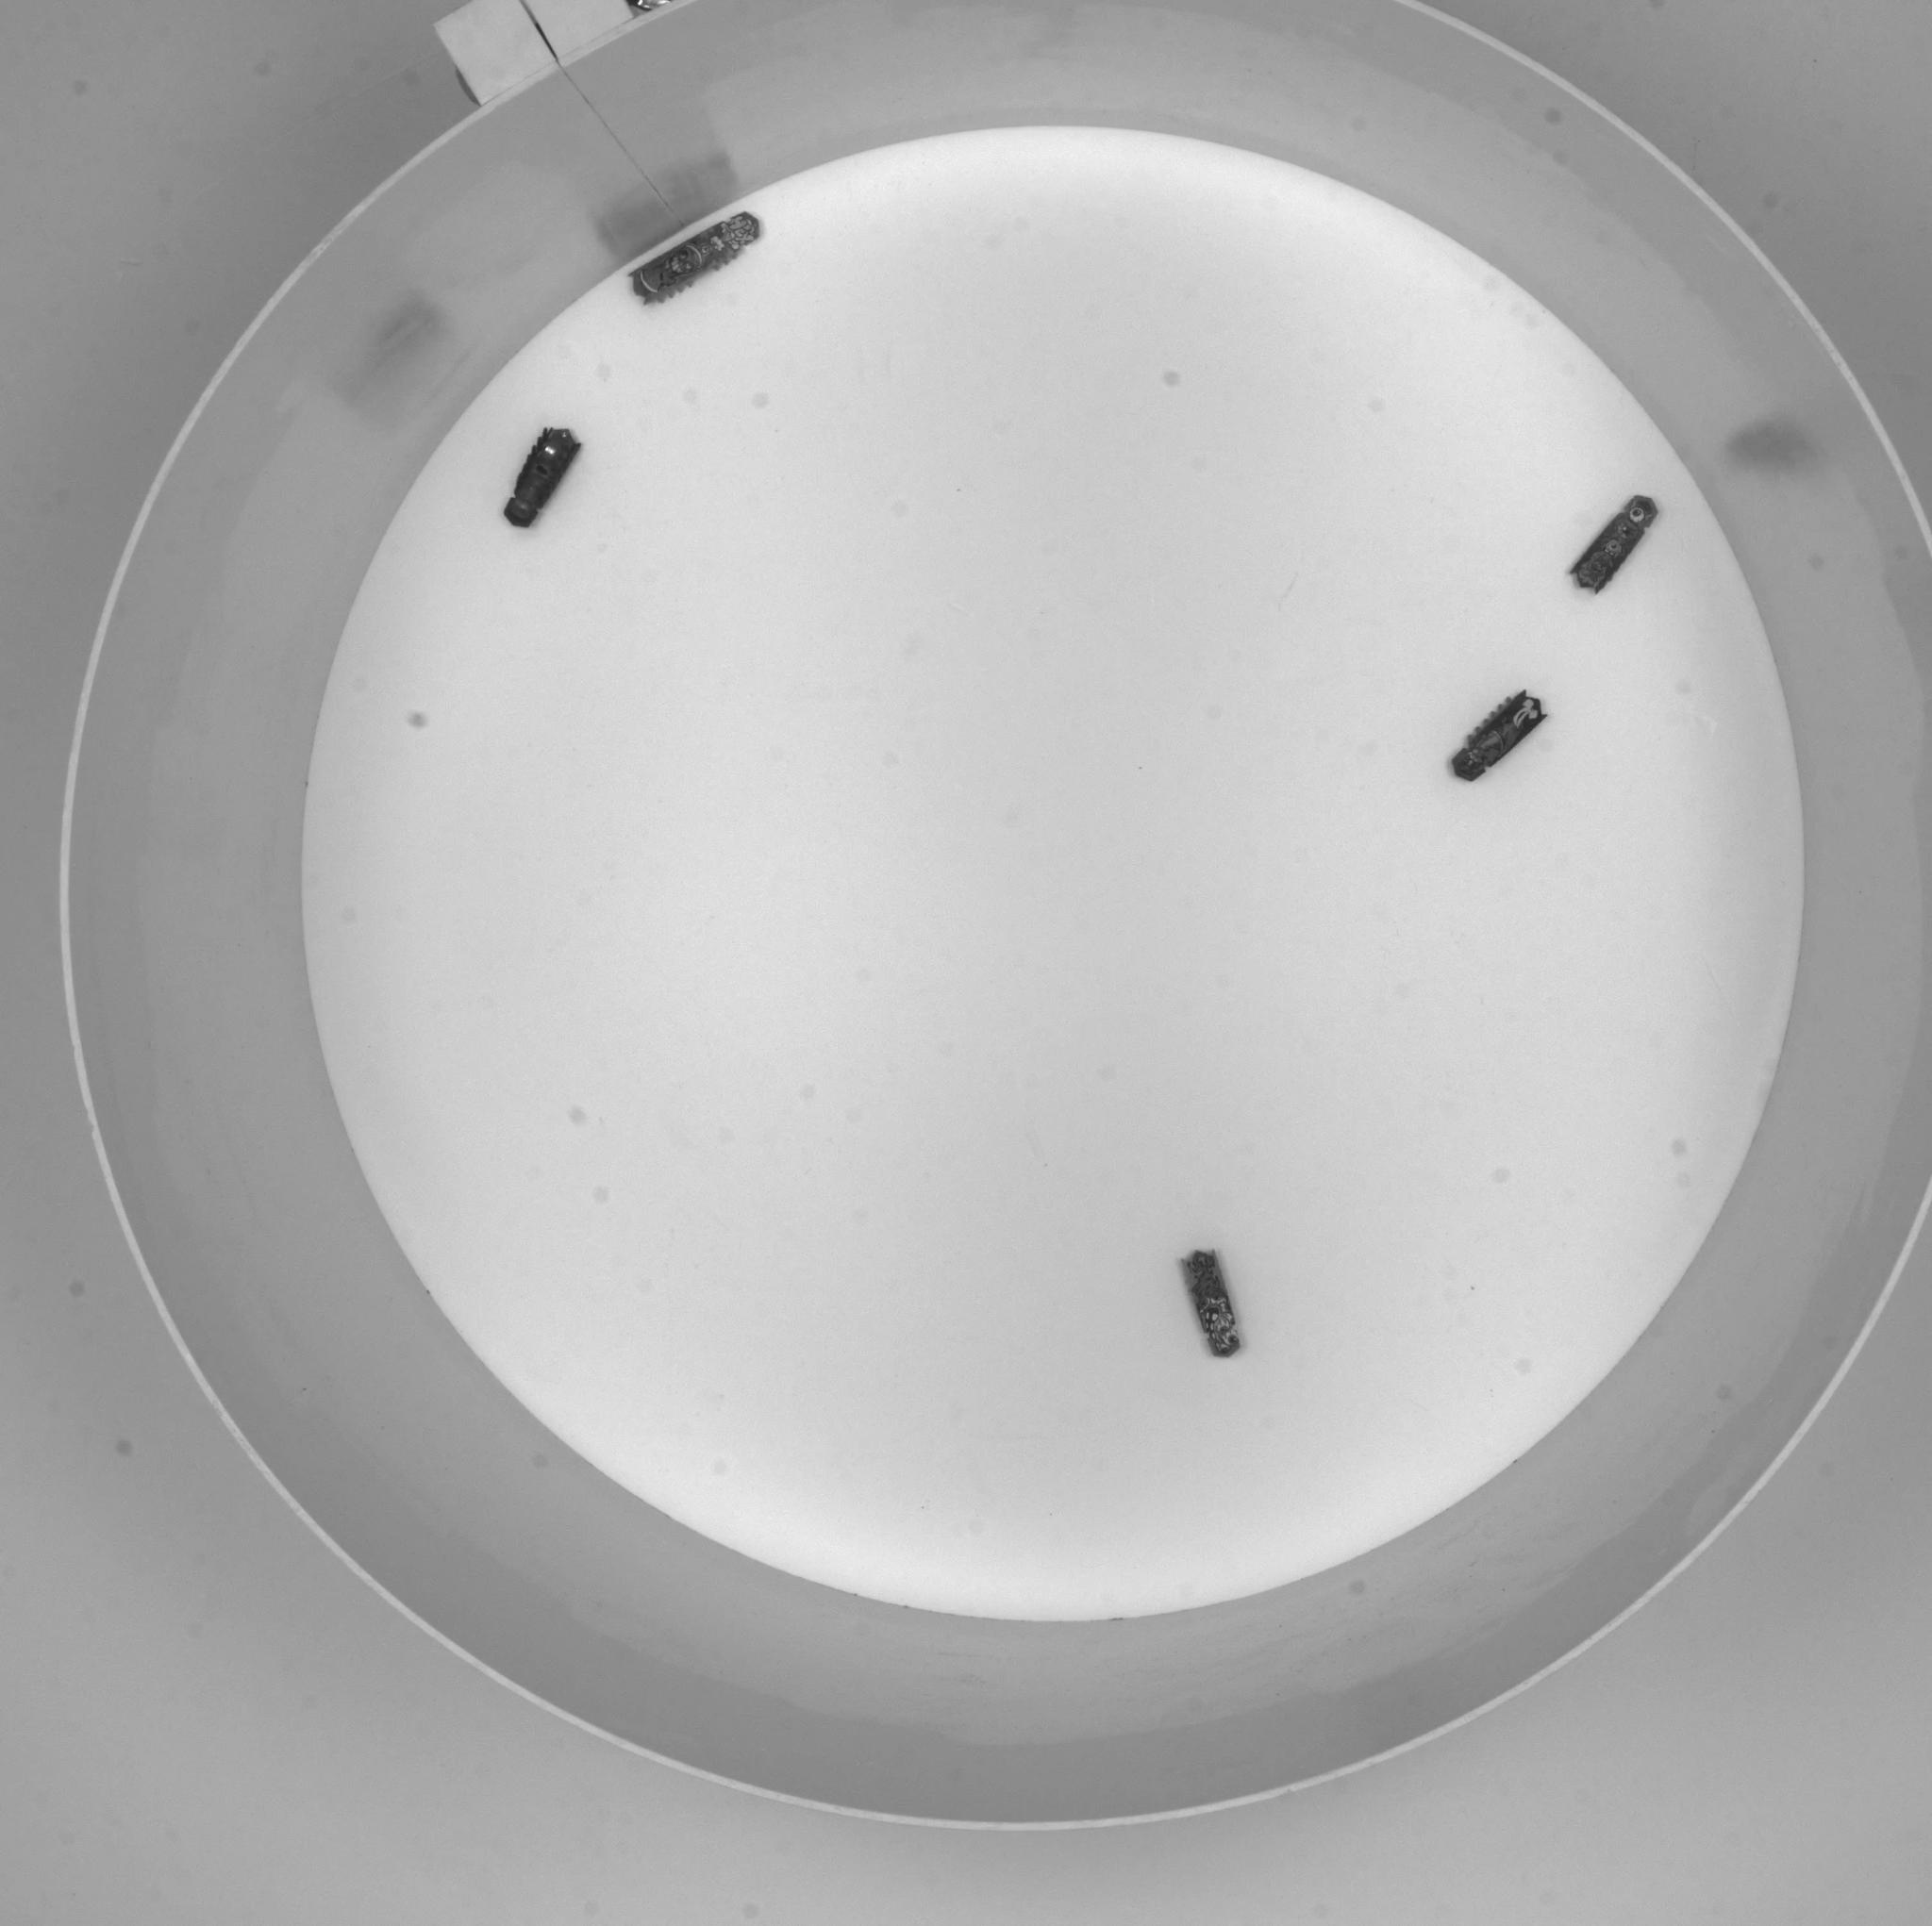bug: (632, 213, 759, 302), (1570, 496, 1659, 593), (1450, 691, 1544, 780), (505, 427, 580, 526), (1180, 1250, 1240, 1358)
